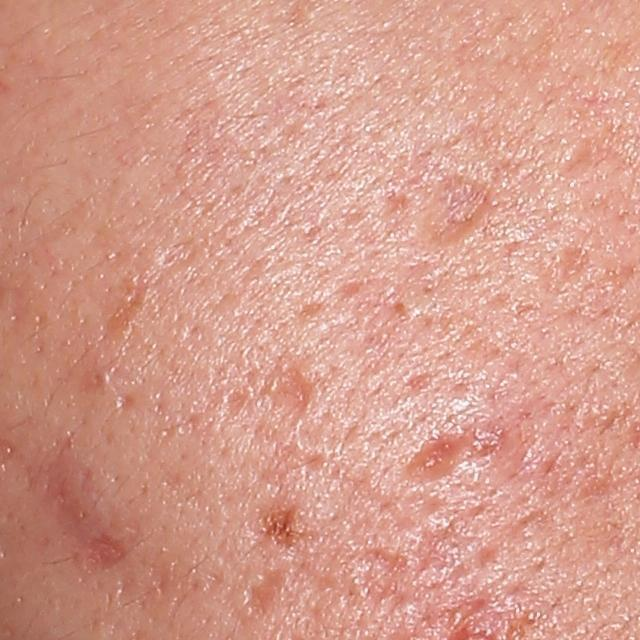atrophic_scar: (397, 428, 486, 487), (423, 178, 498, 247), (350, 547, 405, 606), (559, 136, 628, 181), (561, 246, 595, 284)
comedo: (87, 369, 109, 389)
